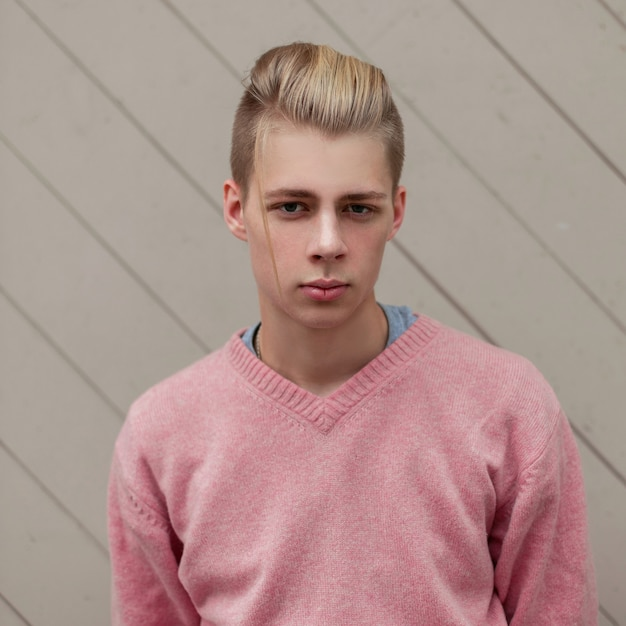teen: (218, 34, 424, 347)
